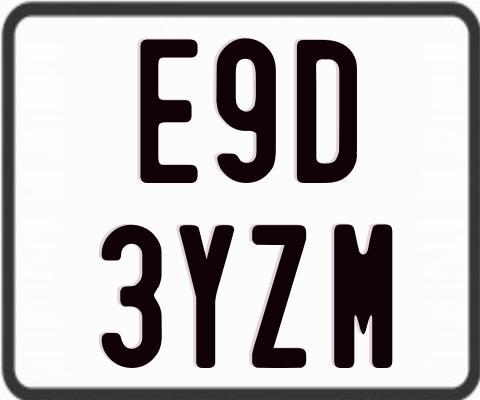3: (99, 225, 161, 372)
9: (215, 37, 278, 187)
D: (295, 37, 357, 186)
E: (137, 37, 199, 185)
M: (334, 221, 392, 371)
Y: (176, 225, 235, 371)
Z: (251, 225, 305, 371)
